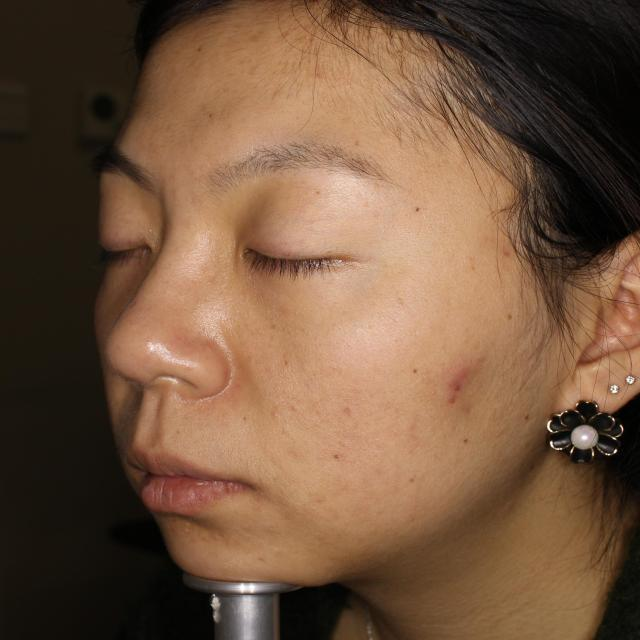acne: (437, 362, 486, 399)
